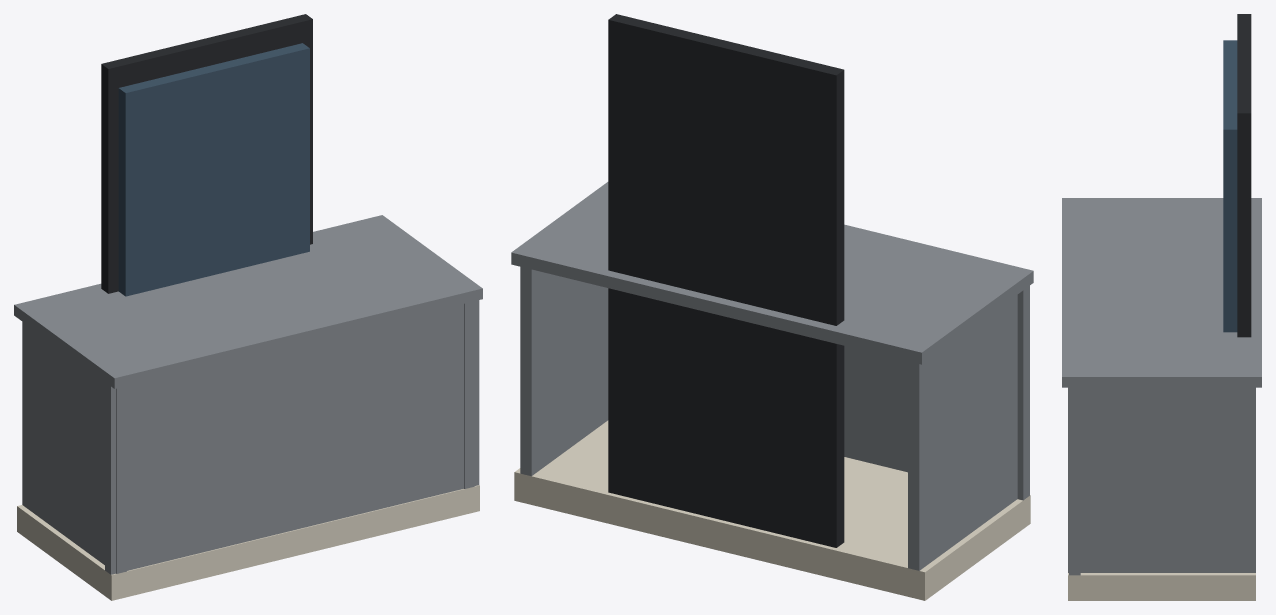
File: arch.balcony.glb
3 renders of one model, left to right at view 1: azimuth 30°, elevation 25°; view 2: azimuth 150°, elevation 25°; view 3: azimuth 270°, elevation 25°, orthographic. The views are drawn at different scales.
Visible parts, largest first — view 1: arch.balcony; view 2: arch.balcony; view 3: arch.balcony.
Boxes of the visible parts, box(x1,y1,x2,y2) form: arch.balcony: box(14, 14, 482, 600); arch.balcony: box(511, 14, 1033, 600); arch.balcony: box(1062, 14, 1261, 600).
Bounding box in the file's own units: 1.8 × 2.1 × 0.85.
